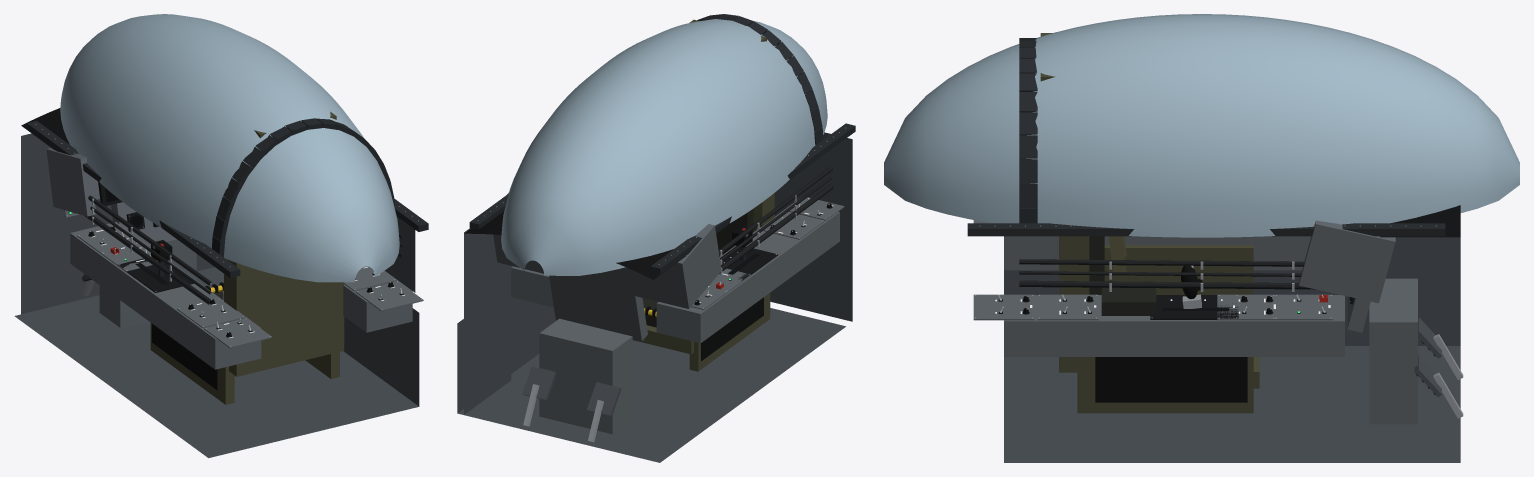
File: kit_pcd.glb
The picture shows the model from 3 angles, left to right: view 1: azimuth 30°, elevation 25°; view 2: azimuth 150°, elevation 25°; view 3: azimuth 270°, elevation 25°; orthographic projection. The views are drawn at different scales.
Parts seen in each view (by area): view 1: cockpit, CANOPY_GLASS; view 2: cockpit, CANOPY_GLASS; view 3: cockpit, CANOPY_GLASS.
Boxes of the visible parts, box(x1,y1,x2,y2) form: cockpit: box(14, 108, 428, 458); CANOPY_GLASS: box(60, 14, 399, 282); cockpit: box(457, 14, 855, 462); CANOPY_GLASS: box(501, 19, 827, 275); cockpit: box(967, 33, 1463, 462); CANOPY_GLASS: box(884, 14, 1519, 237).
Bounding box in the file's own units: 0.94 × 1.37 × 2.09.
